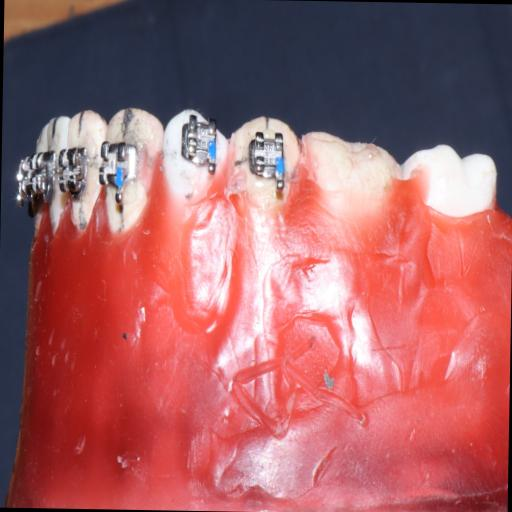correct_brace: (158, 108, 226, 210)
incorrect_brace: (178, 114, 220, 178)
